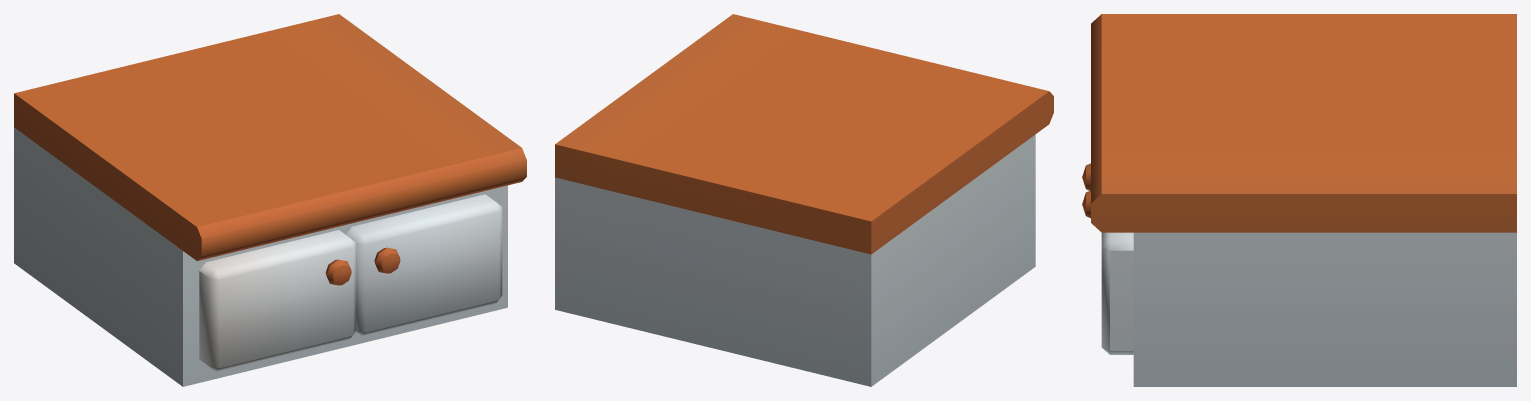
Rendered from kkr.kitchencounter_straight_b.glb.
3 views of the same model, side by side, from view 1: azimuth 30°, elevation 25°; view 2: azimuth 150°, elevation 25°; view 3: azimuth 270°, elevation 25° (orthographic). The views are drawn at different scales.
Visible parts, largest first — view 1: kitchencounter_straight_B; view 2: kitchencounter_straight_B; view 3: kitchencounter_straight_B.
Part boxes in pixels (x1,y1,x2,y2): kitchencounter_straight_B: [14, 14, 526, 386]; kitchencounter_straight_B: [555, 14, 1053, 386]; kitchencounter_straight_B: [1082, 14, 1516, 386].
Size of the model in its own units: 1.49 by 0.7449 by 1.52.
Materials: 1 (1 with a texture image).
